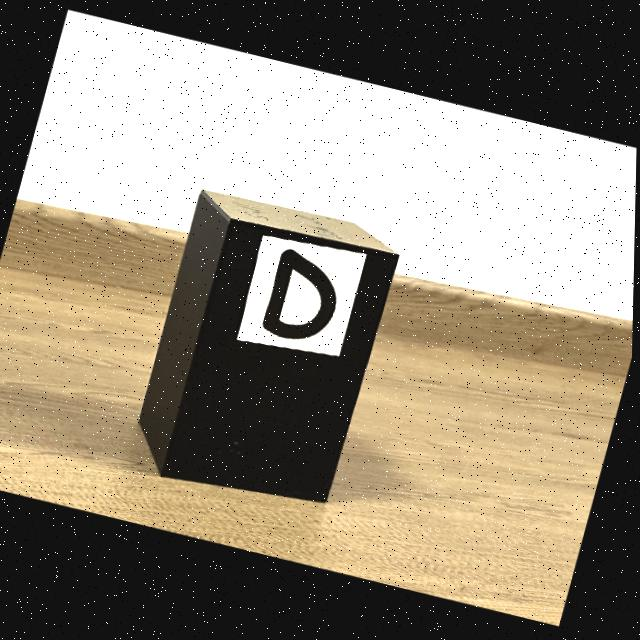D: (264, 250, 337, 340)
